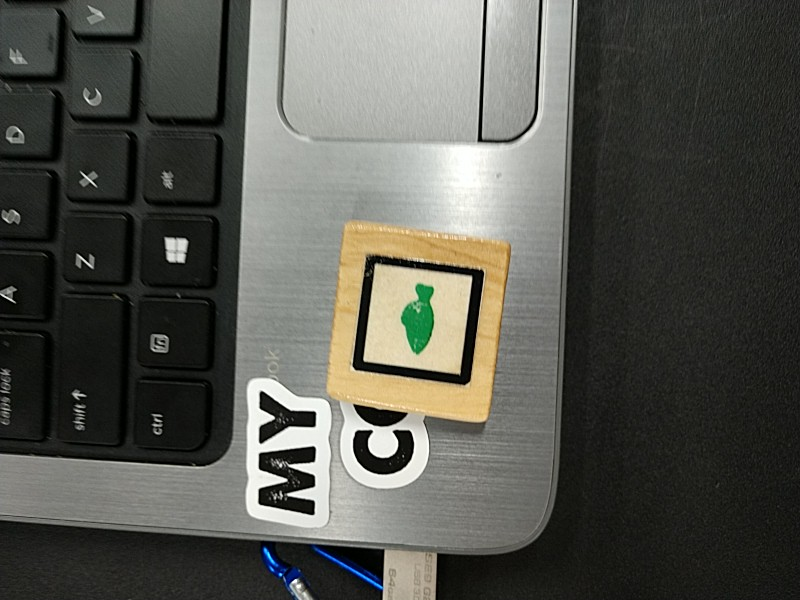Fish Tile: (351, 252, 487, 386)
